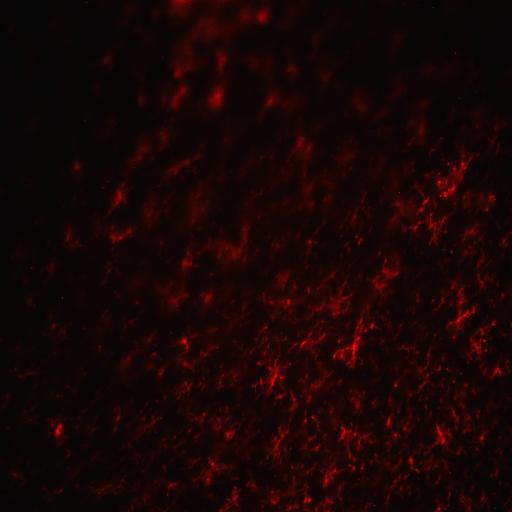microglia: (172, 12, 240, 78), (97, 226, 141, 294), (422, 156, 472, 212), (406, 408, 454, 463), (332, 314, 378, 368), (396, 342, 440, 394), (207, 225, 254, 273), (439, 278, 475, 338), (346, 188, 379, 246), (261, 478, 313, 511), (252, 355, 290, 399), (311, 283, 353, 322), (289, 326, 326, 368), (405, 212, 449, 247), (183, 181, 214, 228), (110, 343, 148, 381), (106, 173, 136, 219), (160, 153, 201, 185), (370, 257, 402, 297), (262, 426, 292, 468), (260, 295, 303, 323), (289, 178, 327, 209), (458, 223, 486, 265), (123, 132, 152, 172), (298, 371, 334, 403), (300, 410, 326, 454), (332, 140, 360, 179), (157, 280, 189, 314), (140, 191, 168, 228), (194, 458, 230, 486), (387, 198, 417, 228), (404, 113, 430, 147), (183, 407, 211, 438), (59, 222, 87, 253), (173, 328, 201, 357), (468, 423, 496, 452), (165, 80, 191, 111), (260, 85, 286, 116), (462, 192, 496, 214), (140, 412, 166, 440), (381, 410, 400, 447), (268, 267, 292, 296), (219, 484, 241, 512), (106, 226, 134, 248), (48, 417, 66, 451), (196, 286, 216, 316), (180, 248, 200, 278), (205, 84, 226, 110), (173, 378, 193, 403), (470, 331, 488, 357), (322, 460, 338, 488), (291, 134, 311, 156), (350, 387, 363, 415), (358, 252, 377, 271), (176, 358, 200, 373), (284, 63, 303, 79), (224, 423, 240, 441), (339, 424, 354, 442), (492, 366, 503, 378), (72, 161, 82, 172), (208, 458, 215, 468)
